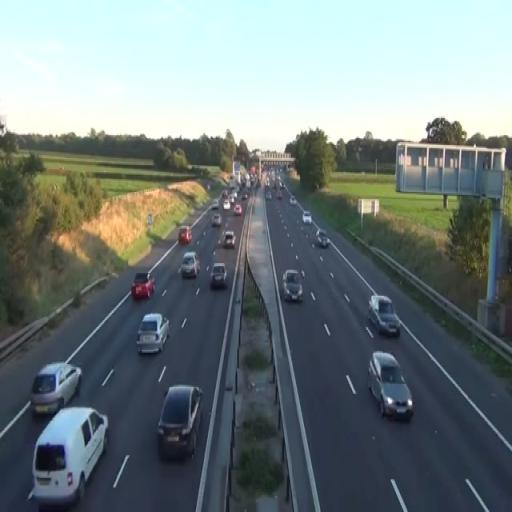Car: (28, 405, 109, 508), (157, 385, 204, 460), (368, 350, 414, 422), (30, 362, 82, 416), (135, 312, 170, 355), (368, 294, 400, 337), (282, 269, 304, 303), (180, 251, 200, 278), (210, 262, 228, 288), (315, 228, 329, 248), (222, 230, 236, 250), (211, 212, 222, 226)
